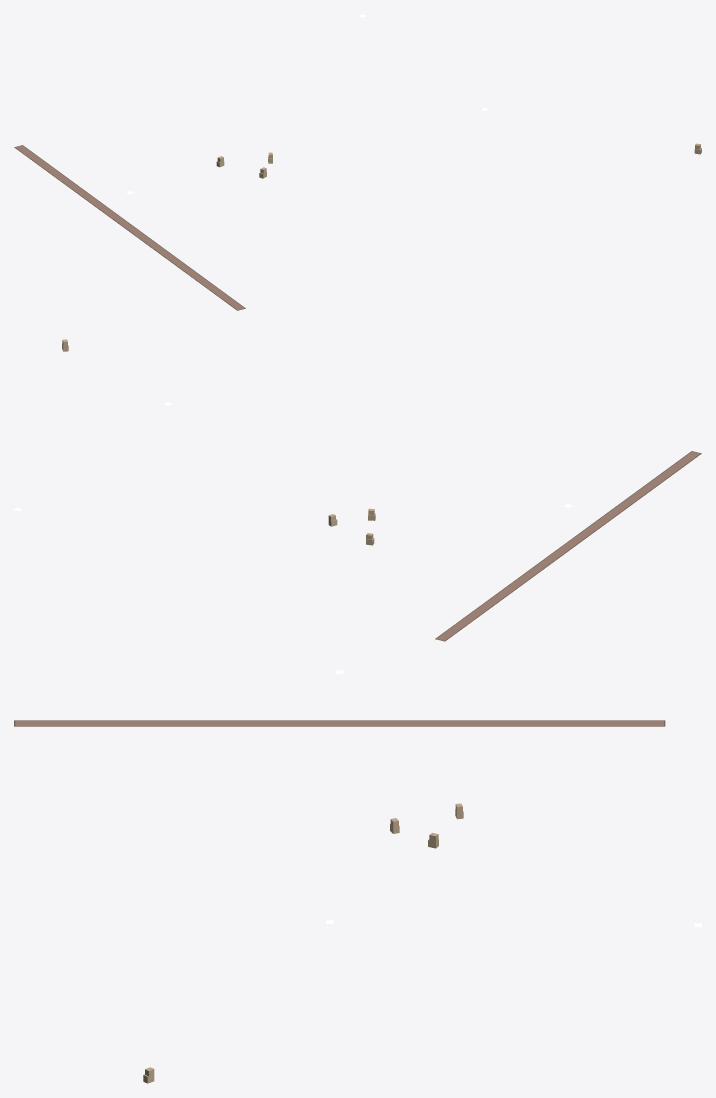
The model's file is fine-s0.glb.
3 views of the same model, one above another, from view 1: azimuth 30°, elevation 25°; view 2: azimuth 150°, elevation 25°; view 3: azimuth 270°, elevation 25° (orthographic). The views are drawn at different scales.
Visible parts, largest first — view 1: soft-s0; view 2: soft-s0; view 3: soft-s0.
Part boxes in pixels (bbox=[...]): soft-s0: bbox=[14, 145, 245, 310]; soft-s0: bbox=[435, 451, 701, 641]; soft-s0: bbox=[14, 720, 665, 726].
Bounding box in the file's own units: 57.61 × 3.83 × 46.11.
